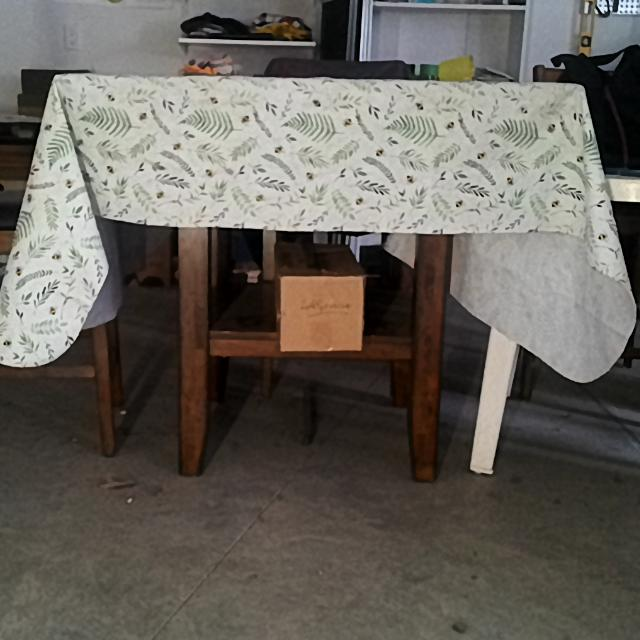box: (280, 277, 361, 350)
